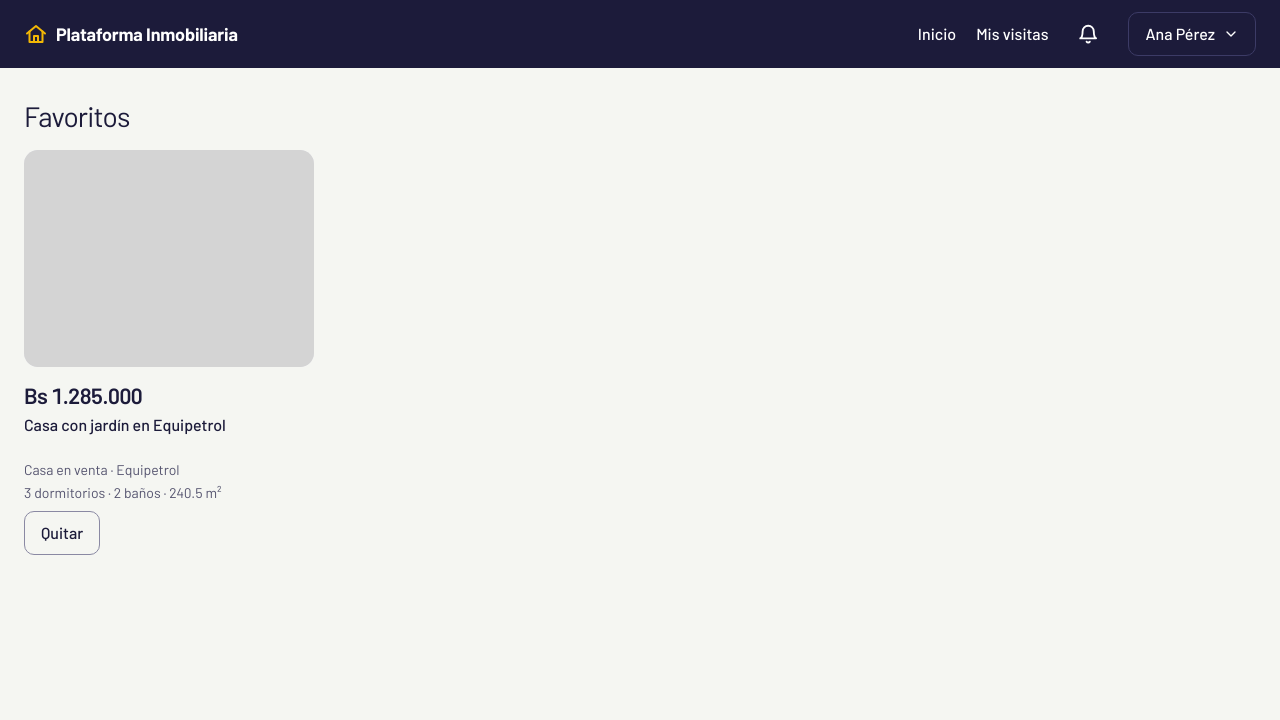
Scenario: FavoritesPage › shows the error when it could not be removed
Step 1. Click the button with aria-label "Quitar de favoritos" → (62, 533), box x1=24 y1=511 x2=100 y2=555
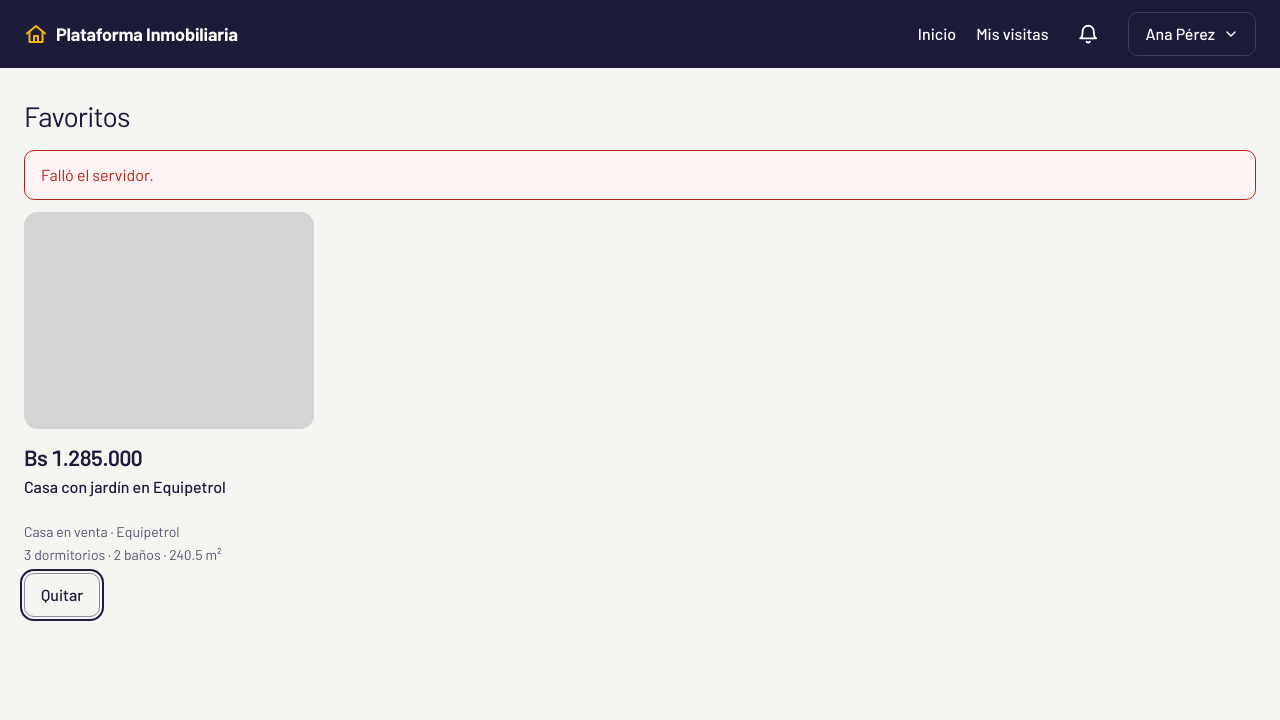
Now the message reads "Falló el servidor.", box x1=41 y1=165 x2=154 y2=184
